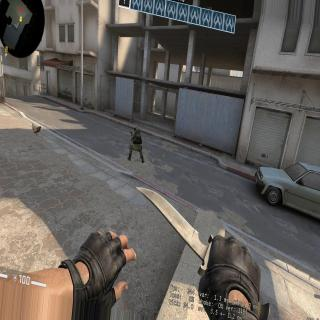CT-Body: (127, 125, 145, 162)
CT-Head: (134, 125, 139, 132)
